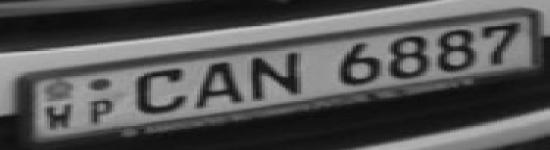6: (328, 41, 384, 87)
7: (480, 21, 524, 68)
8: (387, 33, 432, 82), (435, 27, 478, 72)
A: (194, 60, 247, 110)
C: (132, 66, 192, 114)
N: (250, 50, 308, 102)
P: (88, 97, 126, 125)
W: (42, 101, 83, 131)
